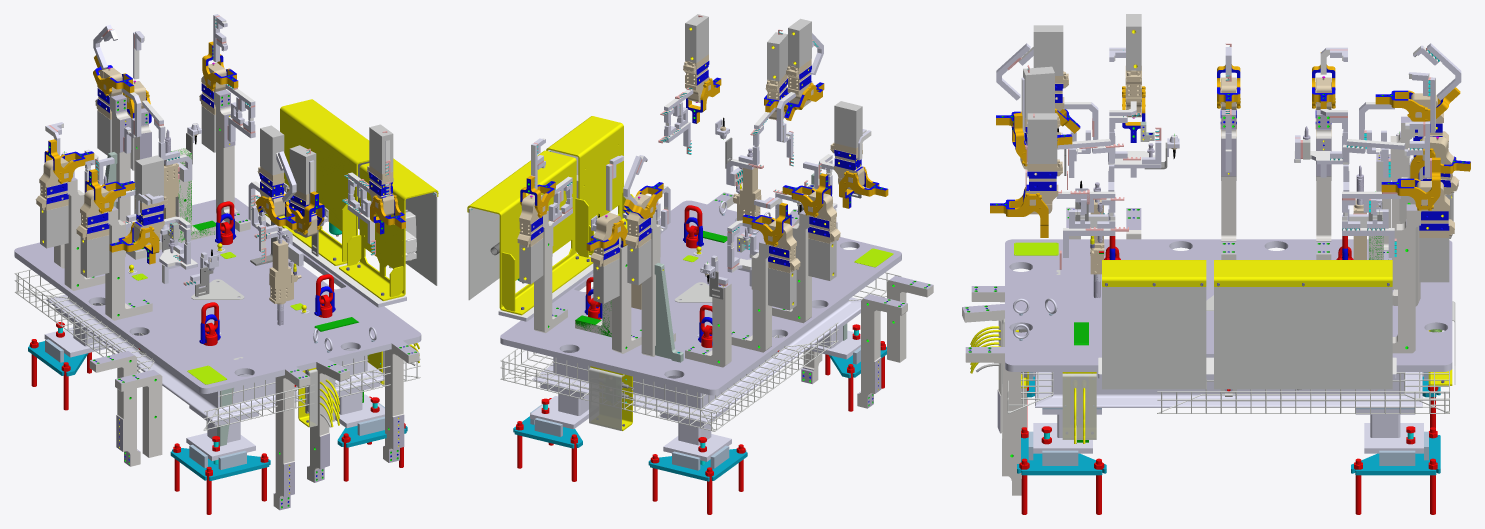
The model's file is floor_clamp.glb.
3 renders of one model, left to right at view 1: azimuth 30°, elevation 25°; view 2: azimuth 150°, elevation 25°; view 3: azimuth 270°, elevation 25°, orthographic. The views are drawn at different scales.
Visible parts, largest first — view 1: PartBody (×21), Body.31, DESG_AUT22_02_01_01 (×2), NAUO3\HI_8PW-164-1 (×8), NAUO1\HI_8GL-201-2_8GR-201-2 (×8), Body.33, Body.2 (×3), Body.37, DESG_AUT22_02_04_, OUTILXXXXX_FONDERIE_A_RENOMMER, 3339_DESG_AUT22_06_03, 2\1\MANIFOLD_SOLID_BREP #8849 (+4 smaller); view 2: PartBody (×16), Body.31, DESG_AUT22_02_01_01 (×2), NAUO3\HI_8PW-164-1 (×9), NAUO1\HI_8GL-201-2_8GR-201-2 (×8), Body.33, Body.32, DESG_AUT22_02_04_, 3340_DESG_AUT22_03_4P, Body.2 (×3), DESG_AUT22_02_01_02 (×2), PARTBODY (+3 smaller); view 3: DESG_AUT22_02_04_ (×2), PartBody (×18), Body.31, DESG_AUT22_02_01_01 (×2), NAUO3\HI_8PW-164-1 (×5), Body.38, NAUO1\HI_8GL-201-2_8GR-201-2 (×3), Body.2 (×2), 3339_DESG_AUT22_06_03, Body.4, 4XXX_MARTIN_TECHNOLOGIE_Z000150087_IMMATRICULATION, 2174530242_M00_L_BLOCK.
Boxes of the visible parts, <box> form: PartBody (×21): <box>14,89,420,510</box>; Body.31: <box>14,197,421,393</box>; DESG_AUT22_02_01_01 (×2): <box>264,99,438,300</box>; NAUO3\HI_8PW-164-1 (×8): <box>40,106,393,278</box>; NAUO1\HI_8GL-201-2_8GR-201-2 (×8): <box>35,62,394,245</box>; Body.33: <box>46,296,217,421</box>; Body.2 (×3): <box>44,327,384,460</box>; Body.37: <box>212,348,384,421</box>; DESG_AUT22_02_04_: <box>405,192,437,285</box>; OUTILXXXXX_FONDERIE_A_RENOMMER: <box>258,212,406,307</box>; 3339_DESG_AUT22_06_03: <box>298,367,335,427</box>; 2\1\MANIFOLD_SOLID_BREP #8849: <box>269,239,291,277</box>; PartBody (×16): <box>500,170,933,481</box>; Body.31: <box>500,200,901,395</box>; DESG_AUT22_02_01_01 (×2): <box>467,116,627,315</box>; NAUO3\HI_8PW-164-1 (×9): <box>519,14,862,310</box>; NAUO1\HI_8GL-201-2_8GR-201-2 (×8): <box>517,54,864,272</box>; Body.33: <box>700,299,860,422</box>; Body.32: <box>532,350,706,422</box>; DESG_AUT22_02_04_: <box>468,207,499,300</box>; 3340_DESG_AUT22_03_4P: <box>589,366,632,430</box>; Body.2 (×3): <box>530,330,860,461</box>; DESG_AUT22_02_01_02 (×2): <box>501,198,588,311</box>; PARTBODY: <box>654,263,683,362</box>; DESG_AUT22_02_04_ (×2): <box>1102,286,1392,389</box>; PartBody (×18): <box>962,90,1449,495</box>; Body.31: <box>1005,239,1452,371</box>; DESG_AUT22_02_01_01 (×2): <box>1102,260,1392,286</box>; NAUO3\HI_8PW-164-1 (×5): <box>1023,14,1449,282</box>; Body.38: <box>1035,372,1422,407</box>; NAUO1\HI_8GL-201-2_8GR-201-2 (×3): <box>1025,136,1459,237</box>; Body.2 (×2): <box>1033,423,1423,453</box>; 3339_DESG_AUT22_06_03: <box>1062,372,1096,439</box>; Body.4: <box>1370,414,1400,437</box>; 4XXX_MARTIN_TECHNOLOGIE_Z000150087_IMMATRICULATION: <box>1014,242,1058,255</box>; 2174530242_M00_L_BLOCK: <box>1427,43,1461,100</box>.
Bounding box in the file's own units: 1.51 × 1.59 × 1.71.
